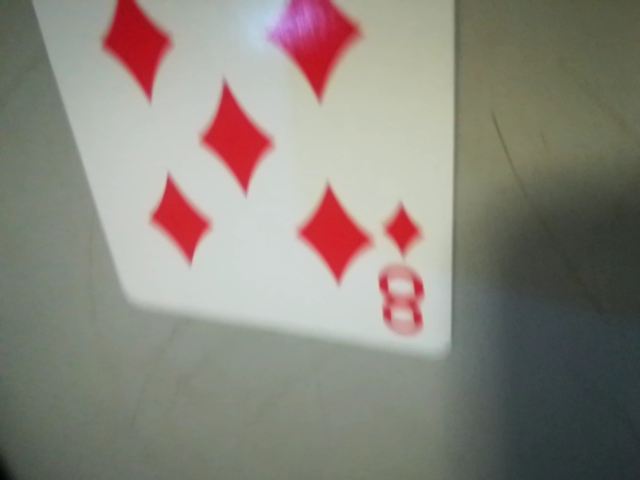fk 8: (367, 194, 442, 349)
